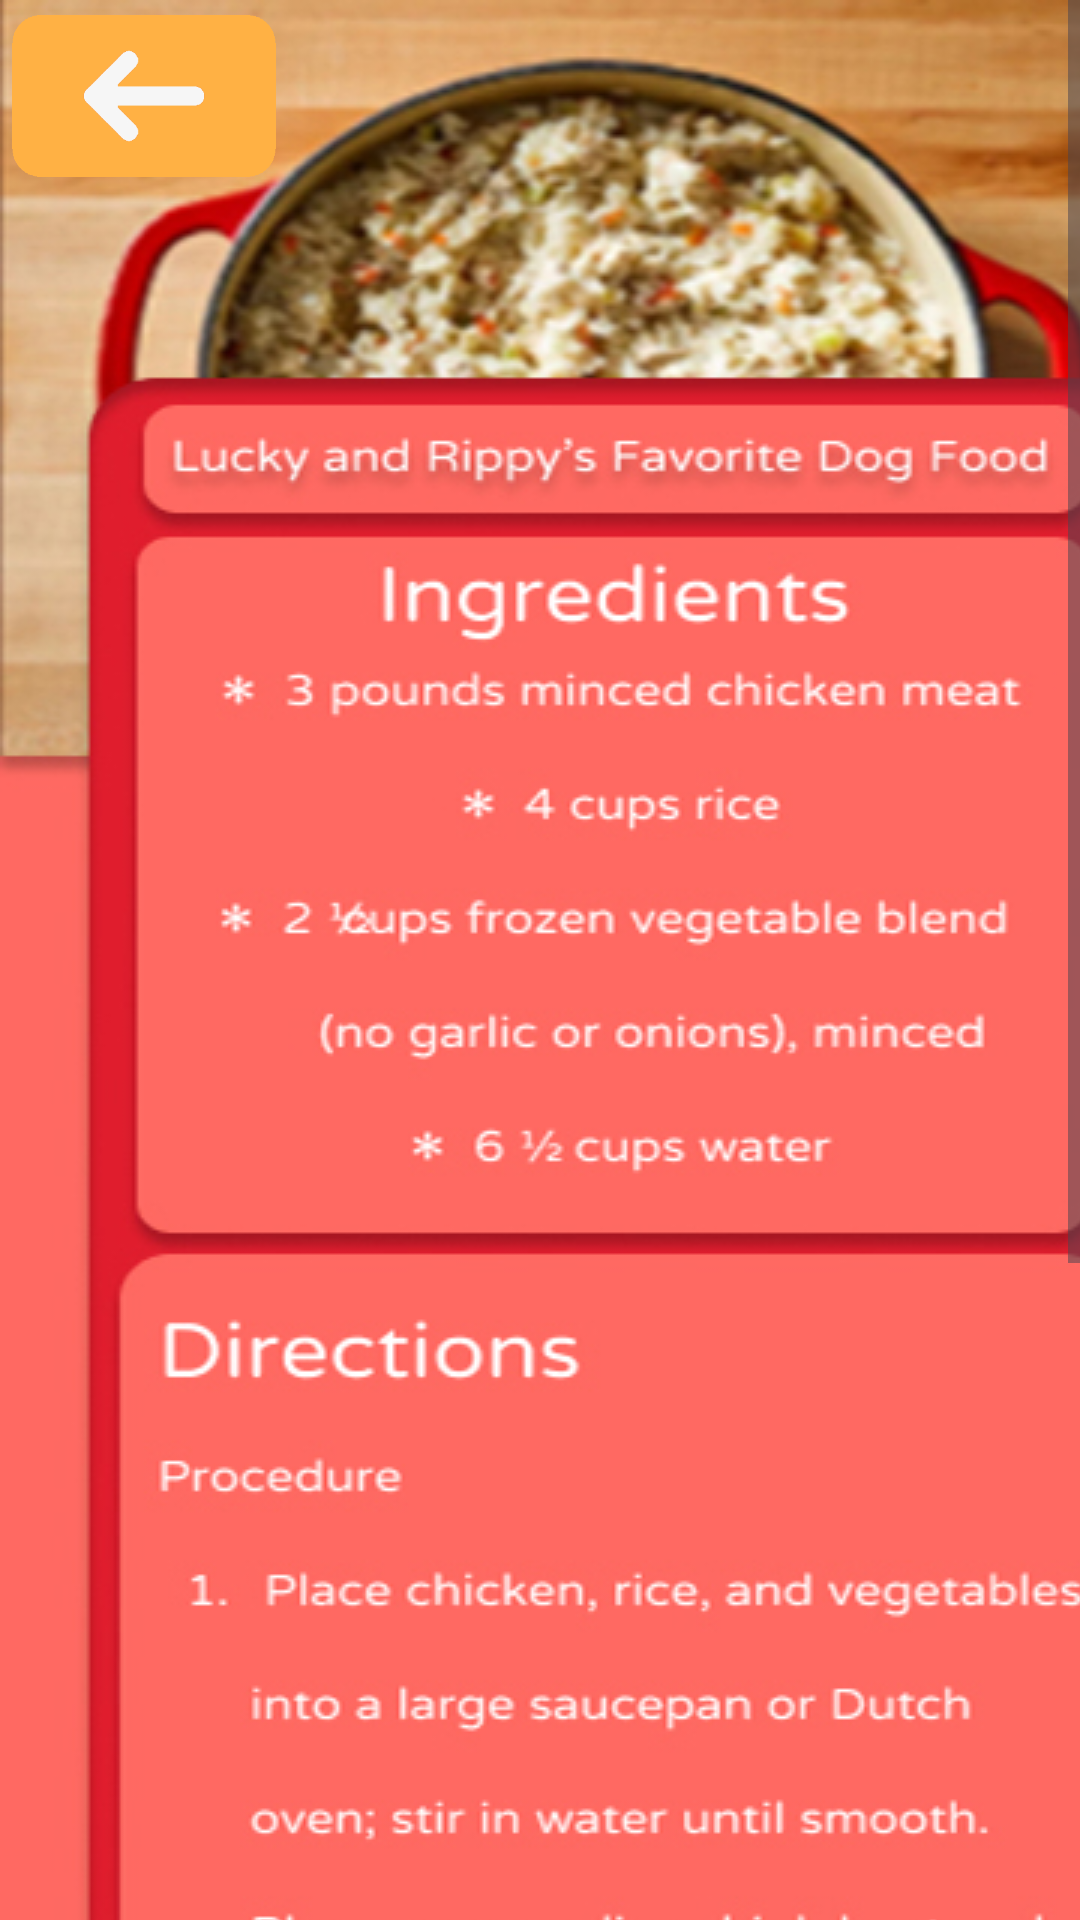

Icon click points for this 1080 x 1920 phone screenshot, format (x,y):
backred: (144,97)
